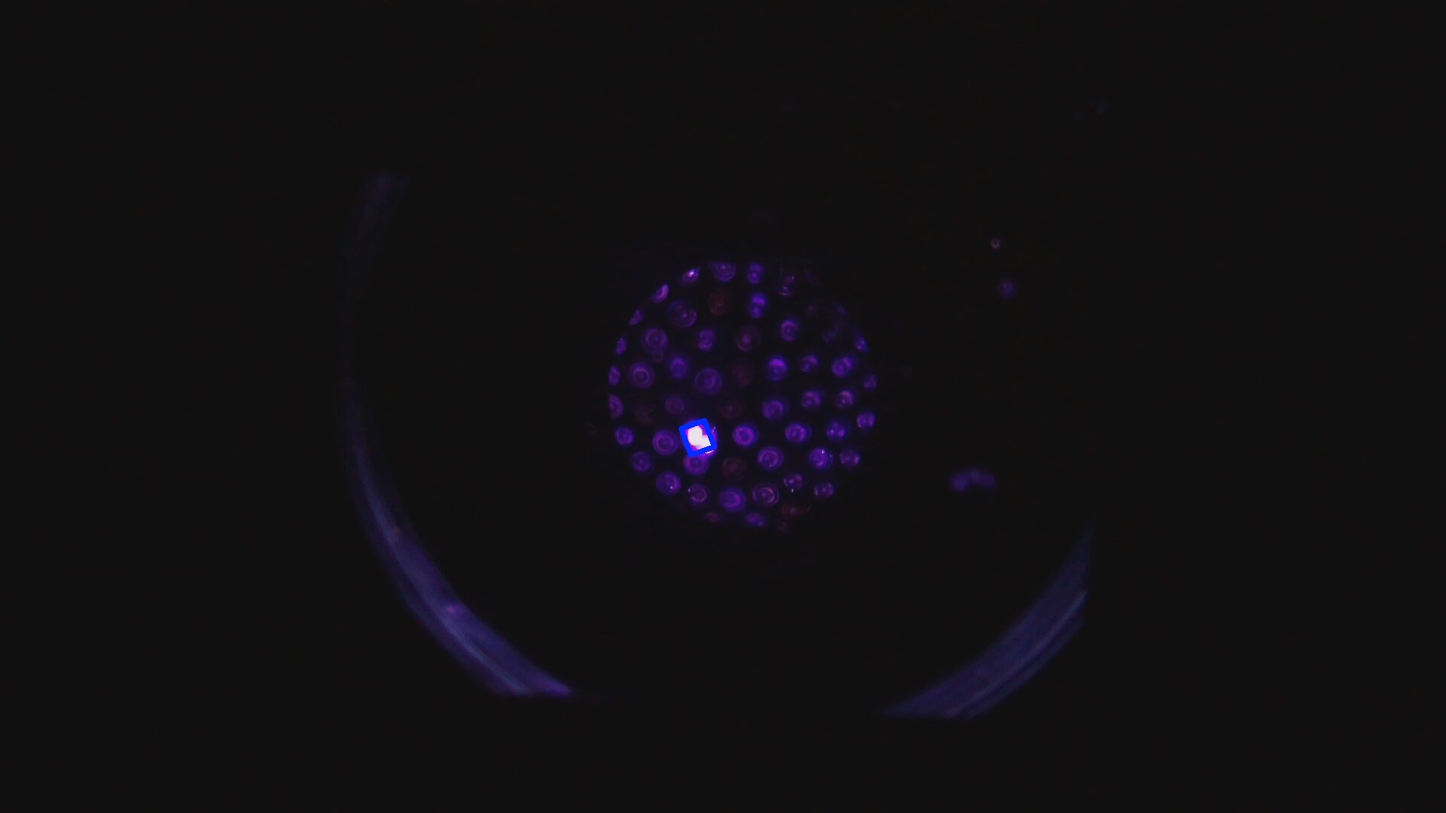plastic: (677, 416, 719, 459)
